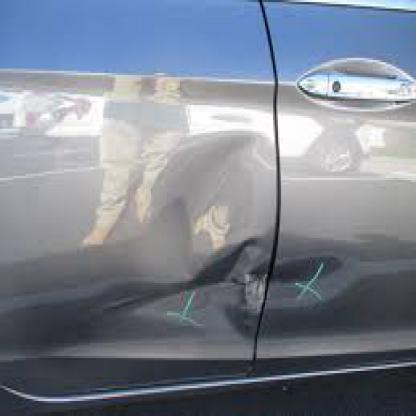dent: (154, 156, 268, 350)
